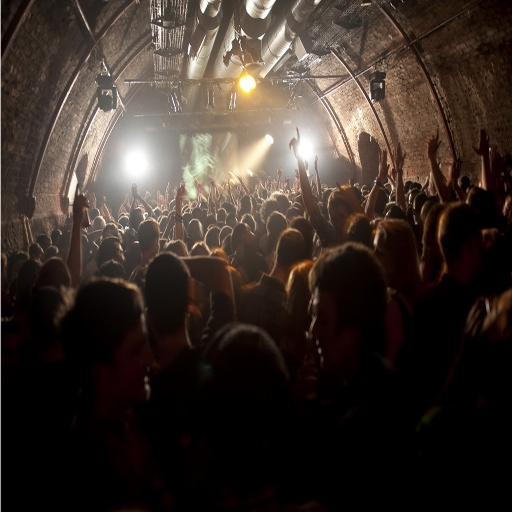hand: (72, 180, 90, 226), (470, 127, 490, 160), (426, 127, 443, 163), (392, 145, 407, 173), (378, 148, 390, 180), (288, 127, 300, 158), (491, 145, 501, 173), (176, 182, 185, 204), (168, 213, 175, 230), (276, 166, 283, 178), (130, 188, 138, 198), (313, 154, 318, 170), (130, 182, 138, 191), (18, 214, 25, 223), (166, 178, 170, 193), (293, 167, 298, 178)
